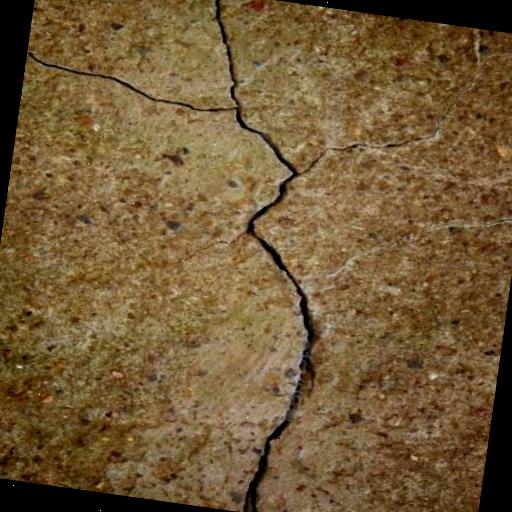spalling: (25, 0, 319, 507)
